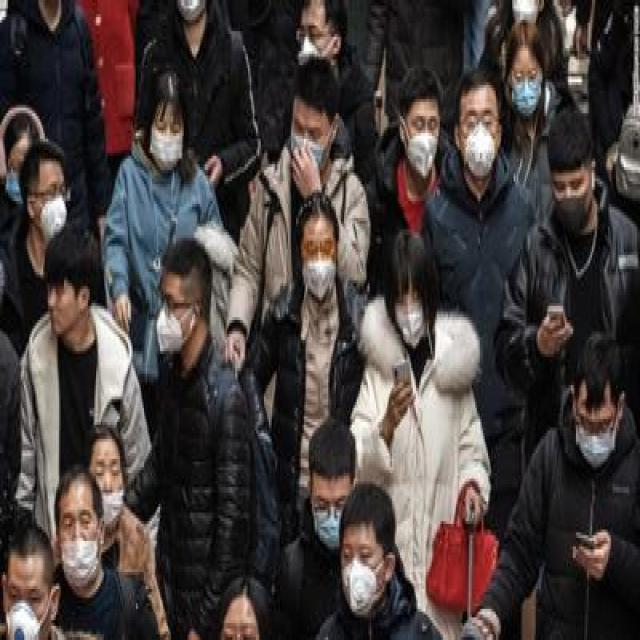mask_weared_incorrect: (89, 451, 124, 528)
with_mask: (56, 502, 101, 587), (337, 537, 383, 619), (460, 103, 499, 177), (552, 171, 595, 236), (577, 403, 619, 468), (300, 231, 339, 299), (311, 485, 353, 548), (4, 579, 51, 635), (406, 106, 441, 177), (289, 111, 329, 171), (393, 279, 428, 344), (153, 284, 185, 355), (148, 111, 185, 171), (508, 61, 545, 117), (40, 174, 69, 242), (294, 18, 331, 66), (4, 151, 25, 208)
without_mask: (44, 276, 76, 335)
